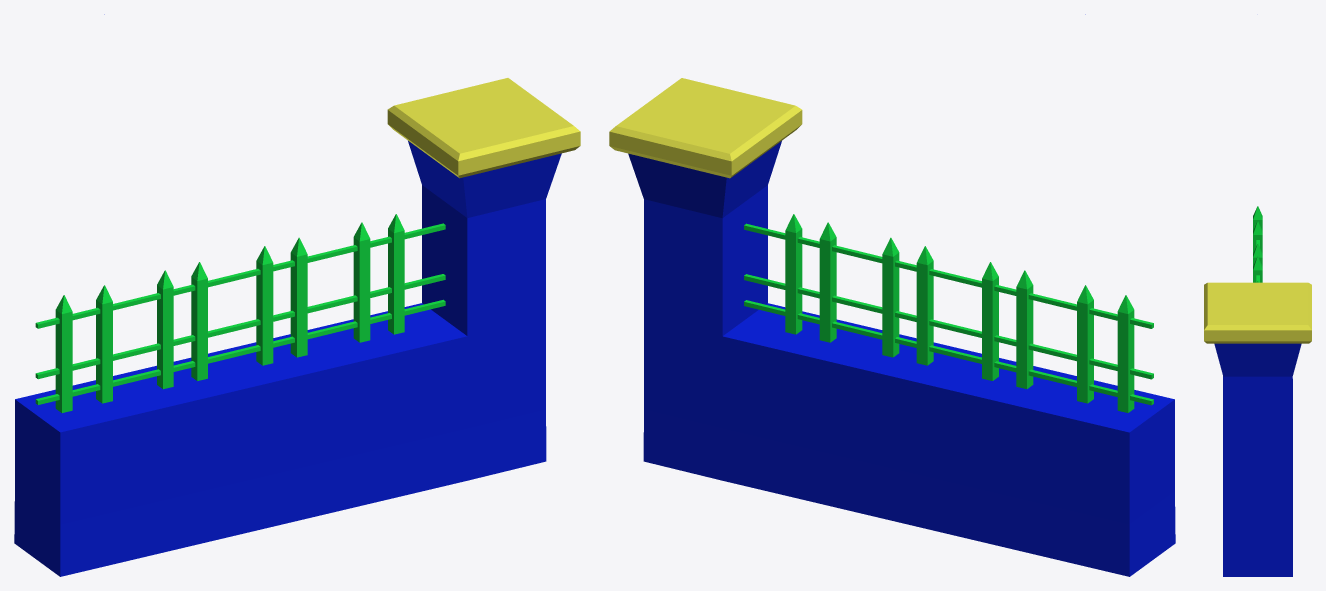
The model's file is MuretaZefirNFlipeMateriais.fbx.
The picture shows the model from 3 angles, left to right: view 1: azimuth 30°, elevation 25°; view 2: azimuth 150°, elevation 25°; view 3: azimuth 270°, elevation 25°; orthographic projection. The views are drawn at different scales.
Parts seen in each view (by area): view 1: Mureta; view 2: Mureta; view 3: Mureta.
Boxes of the visible parts, x1,y1,x2,y2 form: Mureta: [14, 14, 580, 576]; Mureta: [609, 14, 1175, 576]; Mureta: [1204, 206, 1311, 576].
Size of the model in its own units: 207 by 207 by 49.83.
